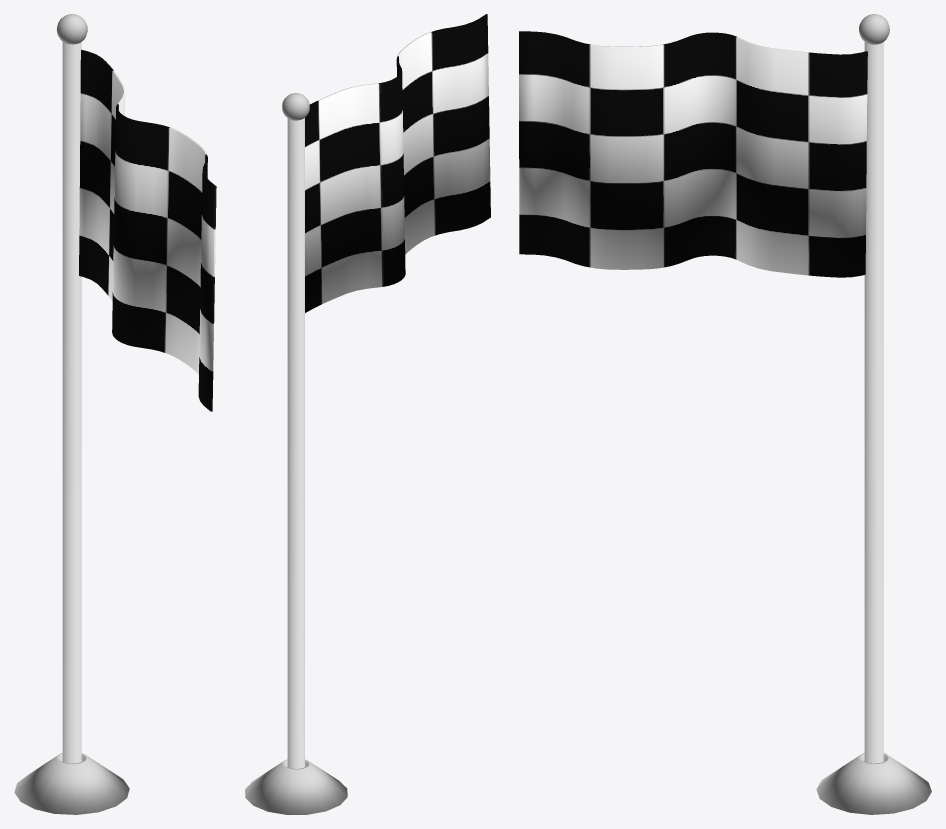
Rendered from Flag2.fbx.
3 renders of one model, left to right at view 1: azimuth 30°, elevation 25°; view 2: azimuth 150°, elevation 25°; view 3: azimuth 270°, elevation 25°, orthographic. The views are drawn at different scales.
Parts seen in each view (by area): view 1: Sphere; view 2: Sphere; view 3: Sphere.
Boxes of the visible parts, x1,y1,x2,y2 form: Sphere: [14, 14, 216, 814]; Sphere: [245, 14, 490, 814]; Sphere: [519, 14, 931, 814].
Bounding box in the file's own units: 664 × 4917 × 2373.
1 material, 1 textured.
